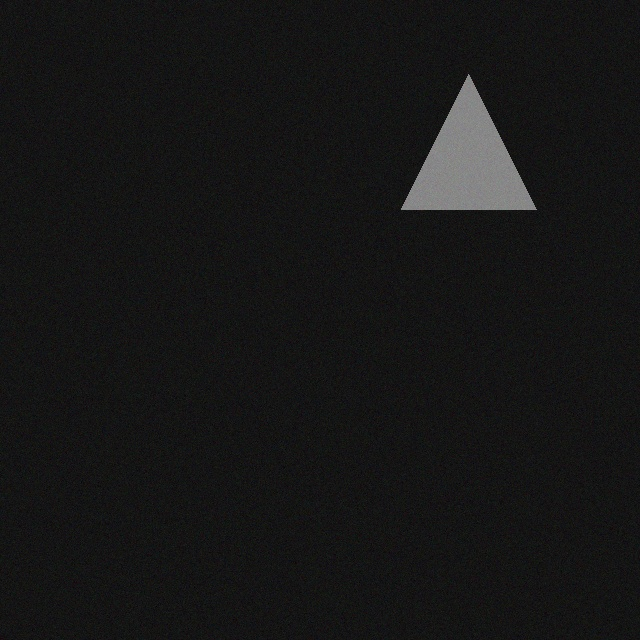triangle: (389, 78, 524, 213)
